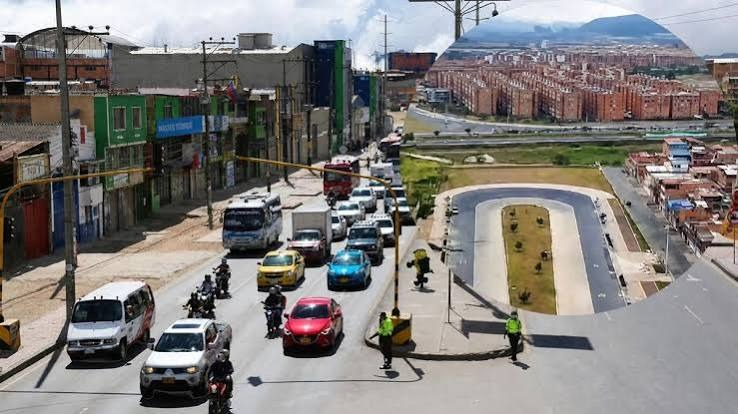car: (33, 130, 612, 366), (443, 164, 674, 338), (443, 165, 680, 332), (137, 323, 218, 403), (61, 289, 140, 367), (221, 187, 275, 257), (153, 320, 220, 375), (280, 297, 341, 357), (282, 205, 332, 262), (116, 281, 156, 350), (157, 319, 223, 357), (328, 248, 371, 291), (260, 251, 300, 295)
